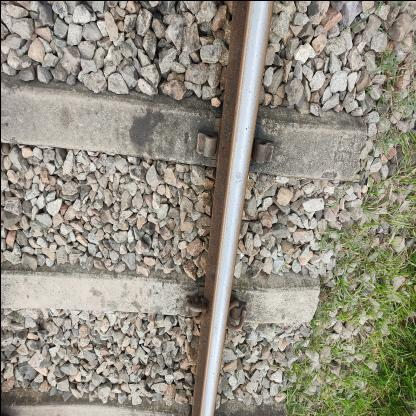Defective: (186, 105, 272, 170)
